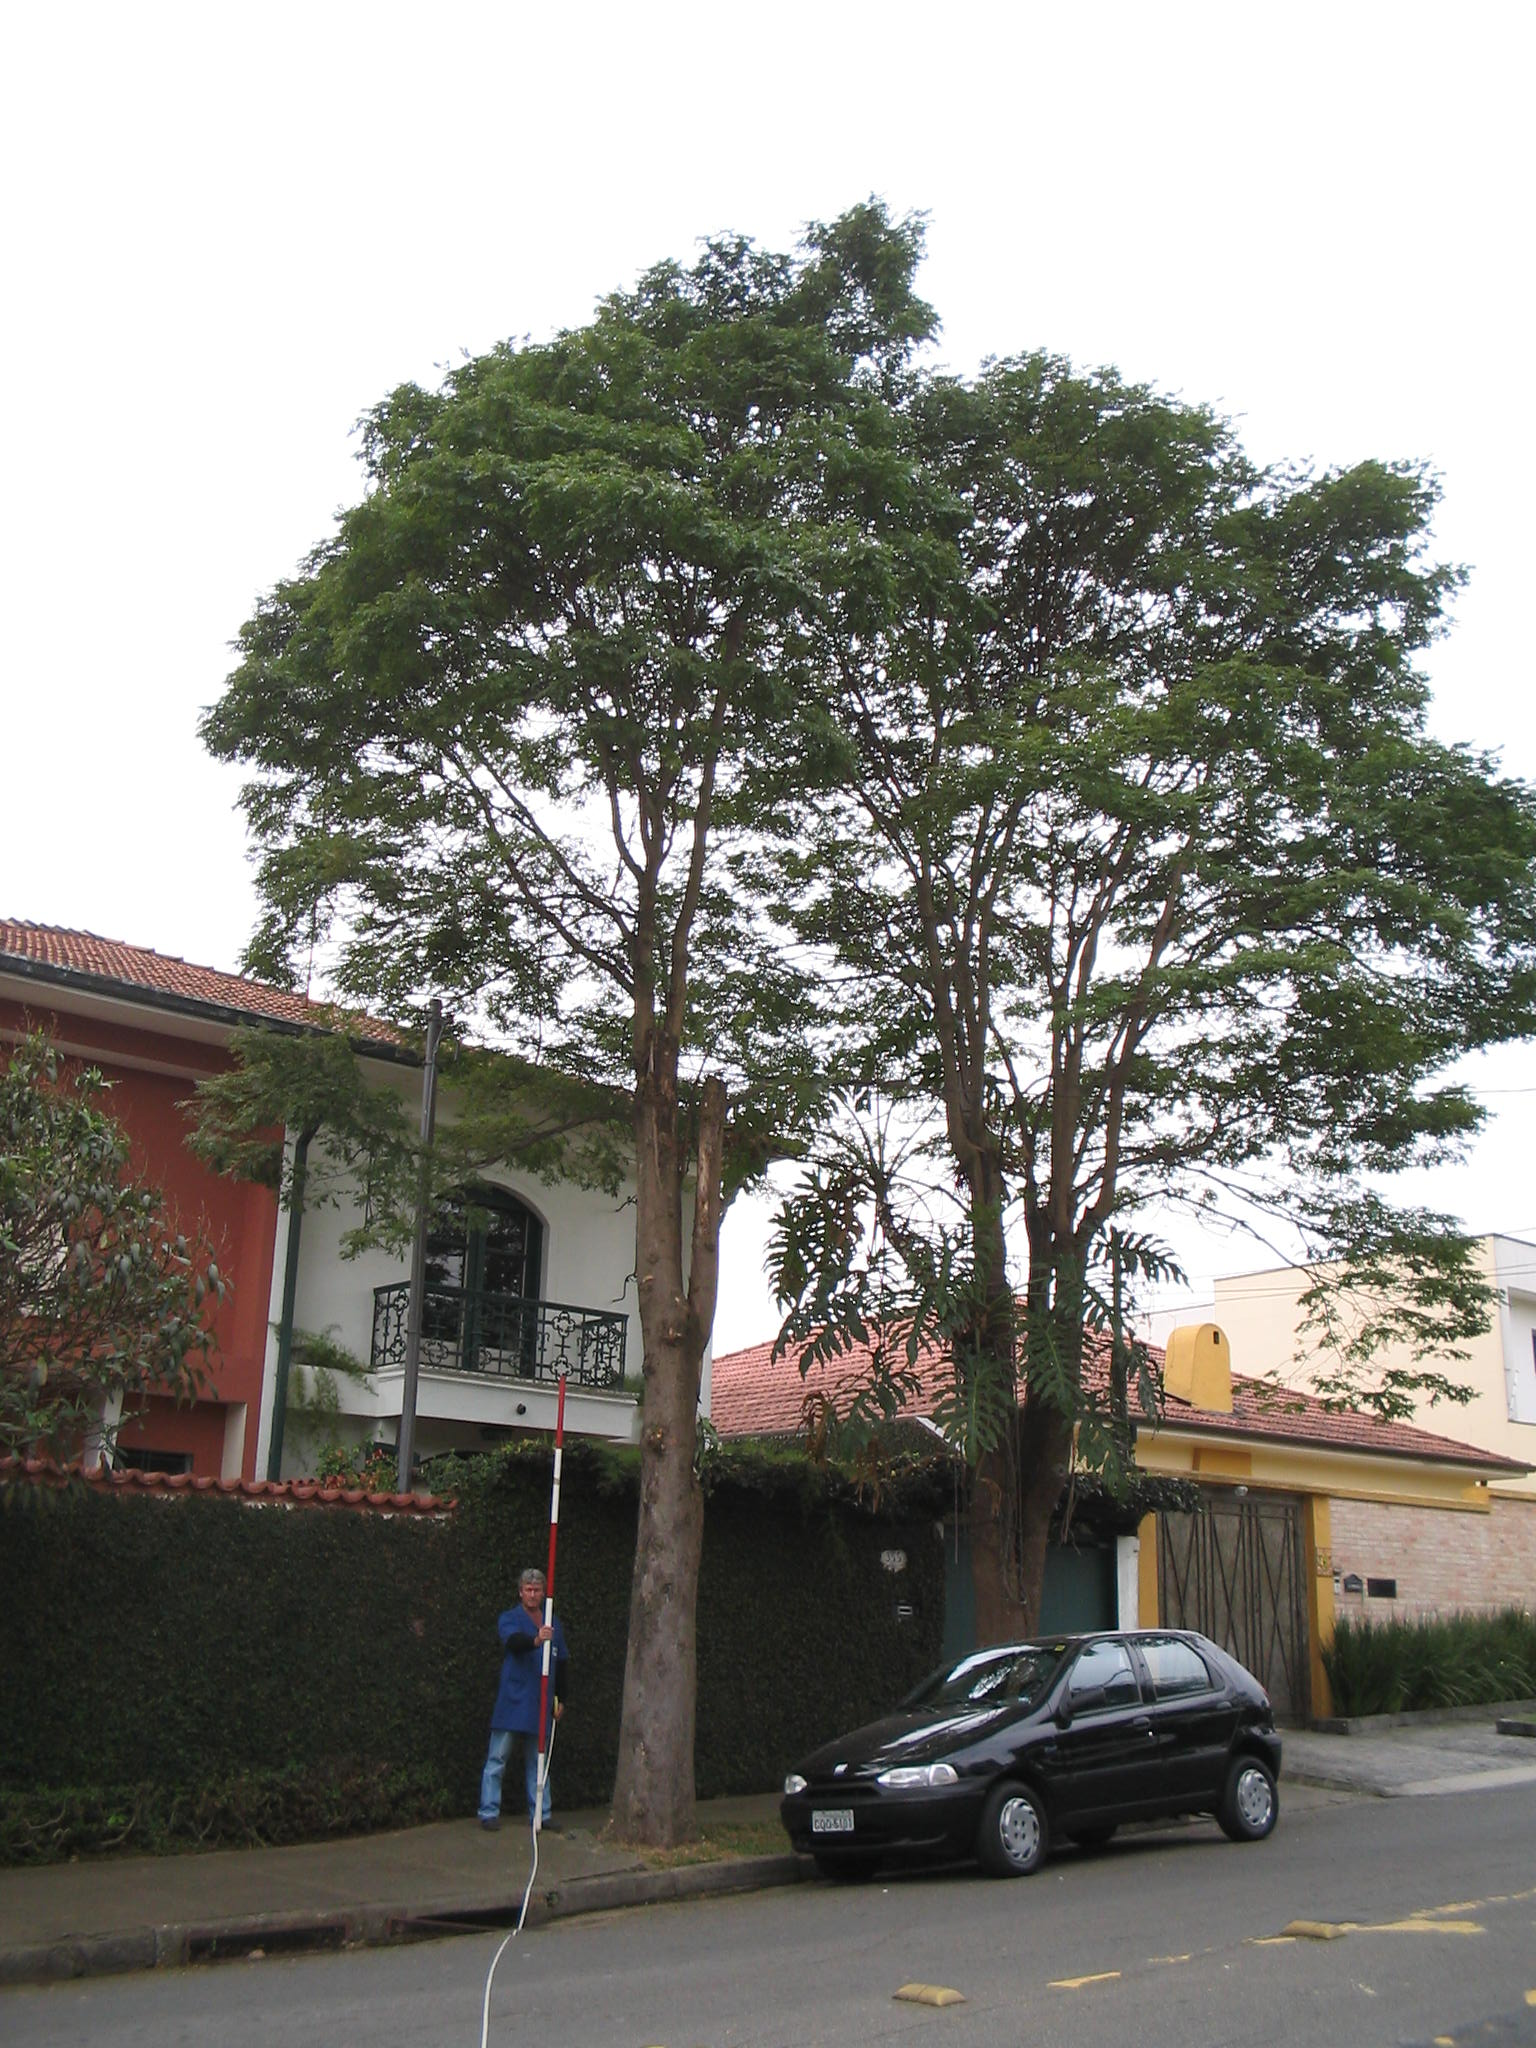crown: (210, 192, 965, 1266), (892, 355, 1525, 1437)
stem: (579, 1311, 744, 1850)
stick: (489, 1382, 595, 1834)
tree: (207, 190, 975, 1846), (883, 353, 1530, 1845)
